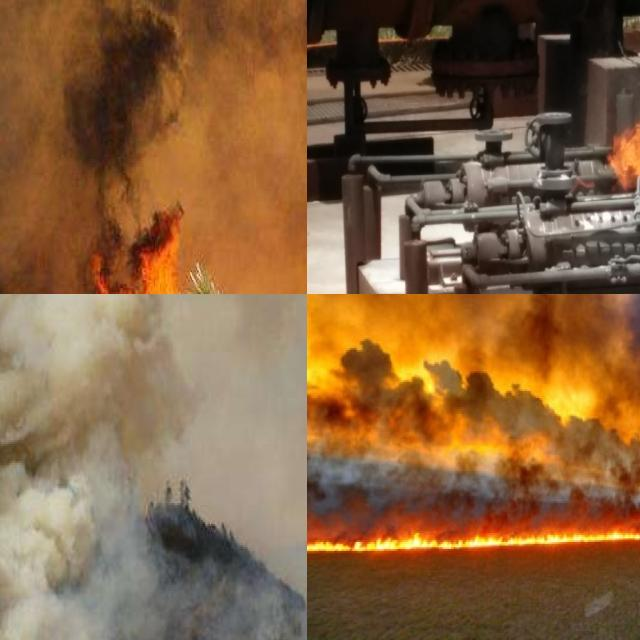fire: (307, 501, 640, 552), (0, 222, 192, 294)
smoke: (0, 294, 239, 640), (0, 0, 307, 260), (307, 294, 640, 467), (251, 587, 307, 640)
